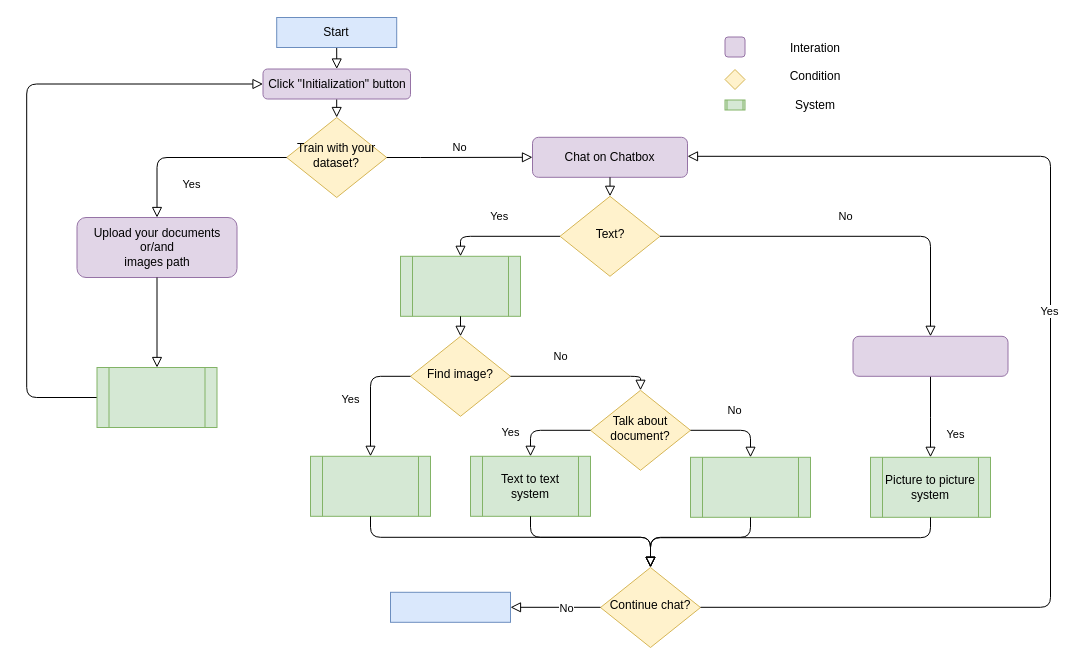
Image size: 1078x665. Some labels were removed from this diagram. The centre of each missing label's shape, as x and y in pixels:
Chat to LLMs system: [750,486]
End: [450,606]
Offline processing: [156,397]
Query processing & defining: [460,285]
Text to picture system: [370,485]
Upload image: [930,355]
